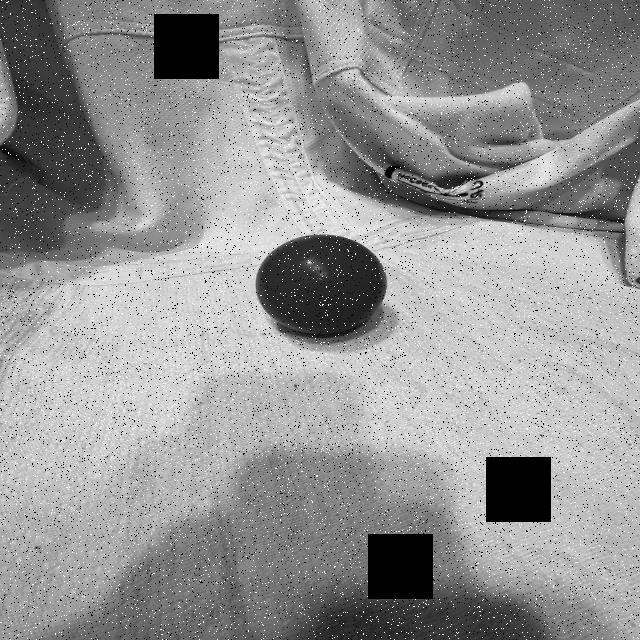ball: (252, 230, 389, 340)
